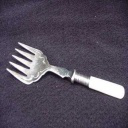fork: (6, 38, 128, 106)
